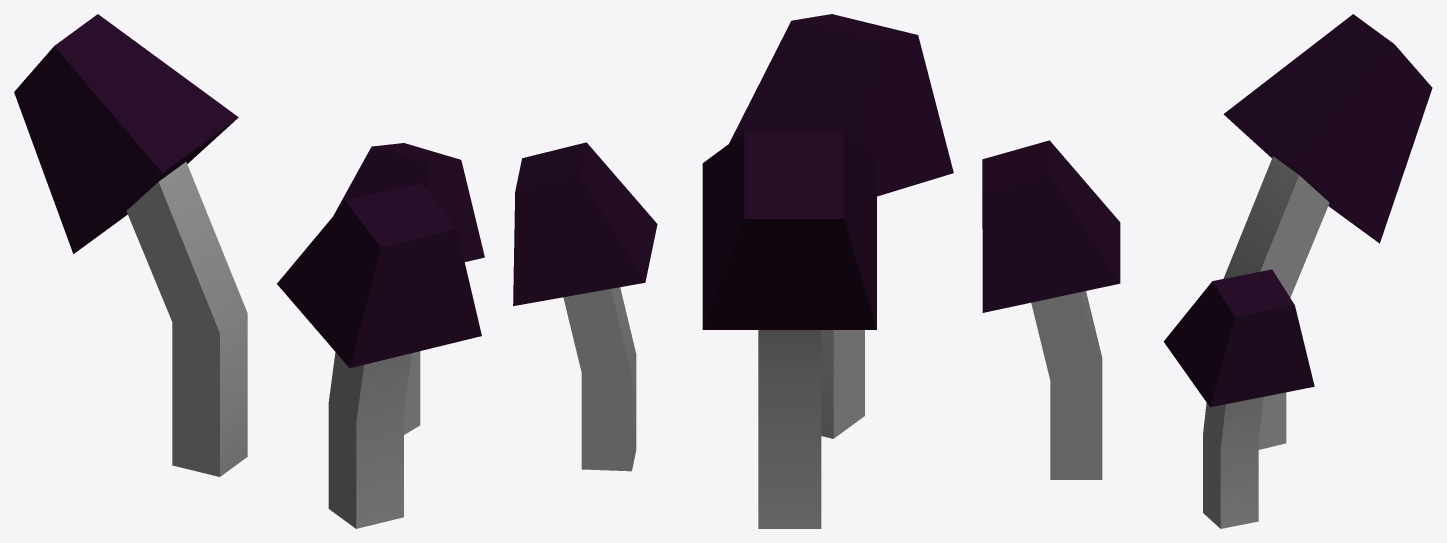
File: Mushroom Purple Trio.FBX
3 views of the same model, side by side, from view 1: azimuth 30°, elevation 25°; view 2: azimuth 150°, elevation 25°; view 3: azimuth 270°, elevation 25° (orthographic). The views are drawn at different scales.
Visible parts, largest first — view 1: Box002, Box001; view 2: Box002, Box001; view 3: Box002, Box001.
Part boxes in pixels (x1=…): Box002: x1=14, y1=14, x2=484, y2=476; Box001: x1=277, y1=183, x2=481, y2=528; Box002: x1=513, y1=132, x2=876, y2=528; Box001: x1=729, y1=14, x2=953, y2=438; Box002: x1=1163, y1=14, x2=1432, y2=528; Box001: x1=982, y1=140, x2=1120, y2=479.
Bounding box in the file's own units: 3.91 × 3.98 × 4.29.
